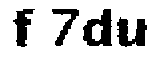7: (47, 6, 80, 48)
d: (81, 6, 114, 52)
f: (11, 6, 39, 52)
u: (116, 14, 151, 51)
